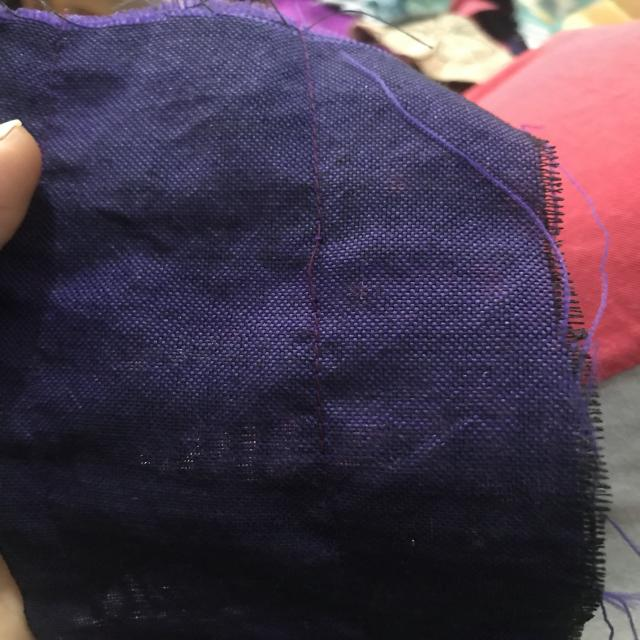skip: (286, 225, 351, 318)
